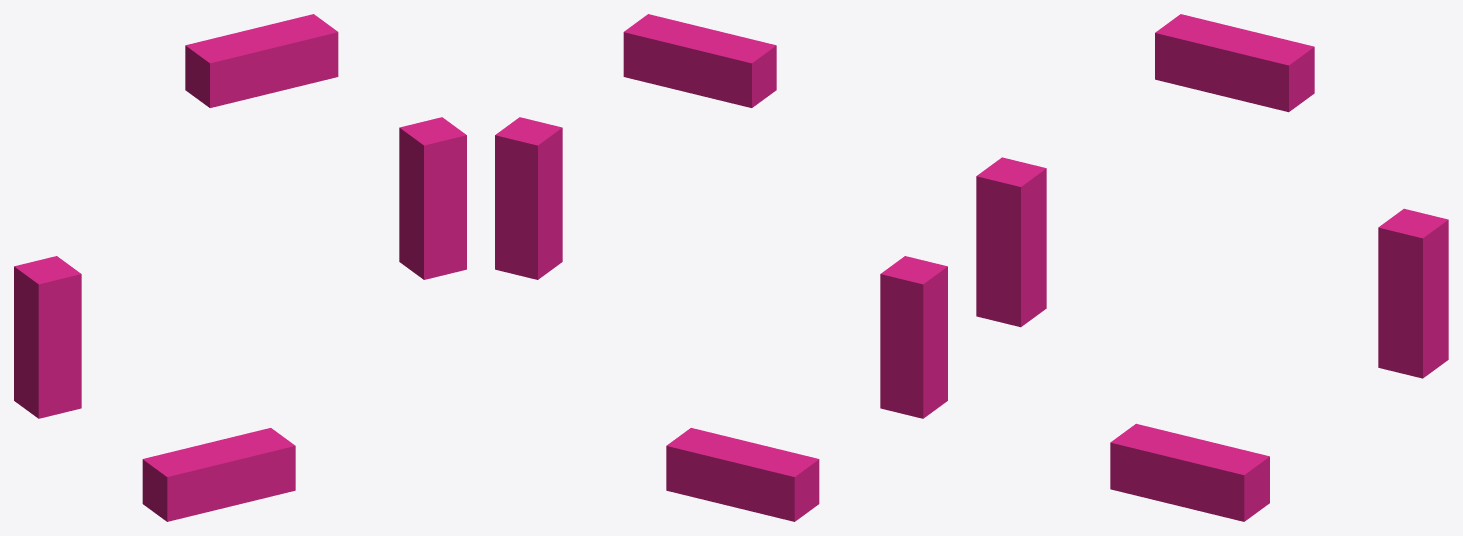
The model's file is luzrosa.obj.
3 renders of one model, left to right at view 1: azimuth 30°, elevation 25°; view 2: azimuth 150°, elevation 25°; view 3: azimuth 330°, elevation 25°, orthographic. The views are drawn at different scales.
Bounding box in the file's own units: 1 × 1 × 0.1.
1 material, 1 textured.
